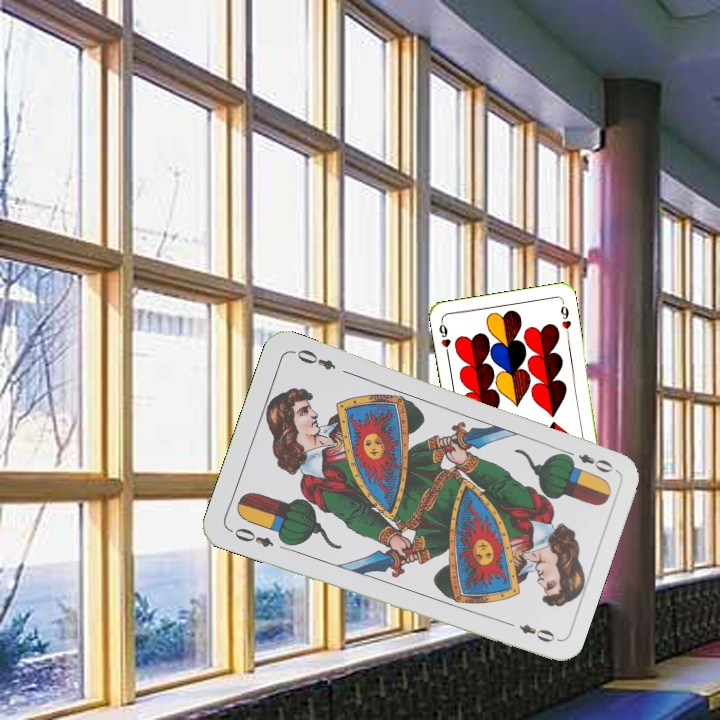EO: (559, 446, 616, 476), (225, 523, 276, 550)
H9: (435, 317, 453, 357)
